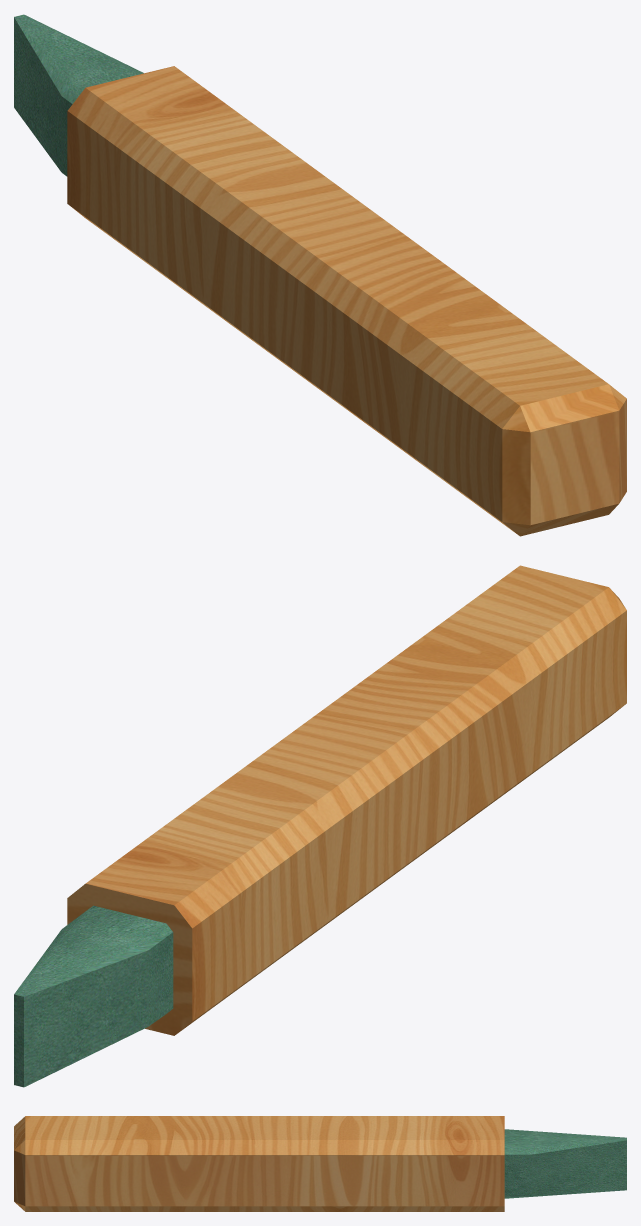
The model's file is Tool_Hammer_Not.fbx.
3 renders of one model, top to bottom at view 1: azimuth 30°, elevation 25°; view 2: azimuth 150°, elevation 25°; view 3: azimuth 270°, elevation 25°, orthographic. The views are drawn at different scales.
Parts seen in each view (by area): view 1: Tool_Hammer_Not; view 2: Tool_Hammer_Not; view 3: Tool_Hammer_Not.
Boxes of the visible parts, <box> form: Tool_Hammer_Not: <box>14,14,626,536</box>; Tool_Hammer_Not: <box>14,565,626,1087</box>; Tool_Hammer_Not: <box>14,1116,626,1211</box>.
Size of the model in its own units: 6.95 by 6.95 by 53.57.
